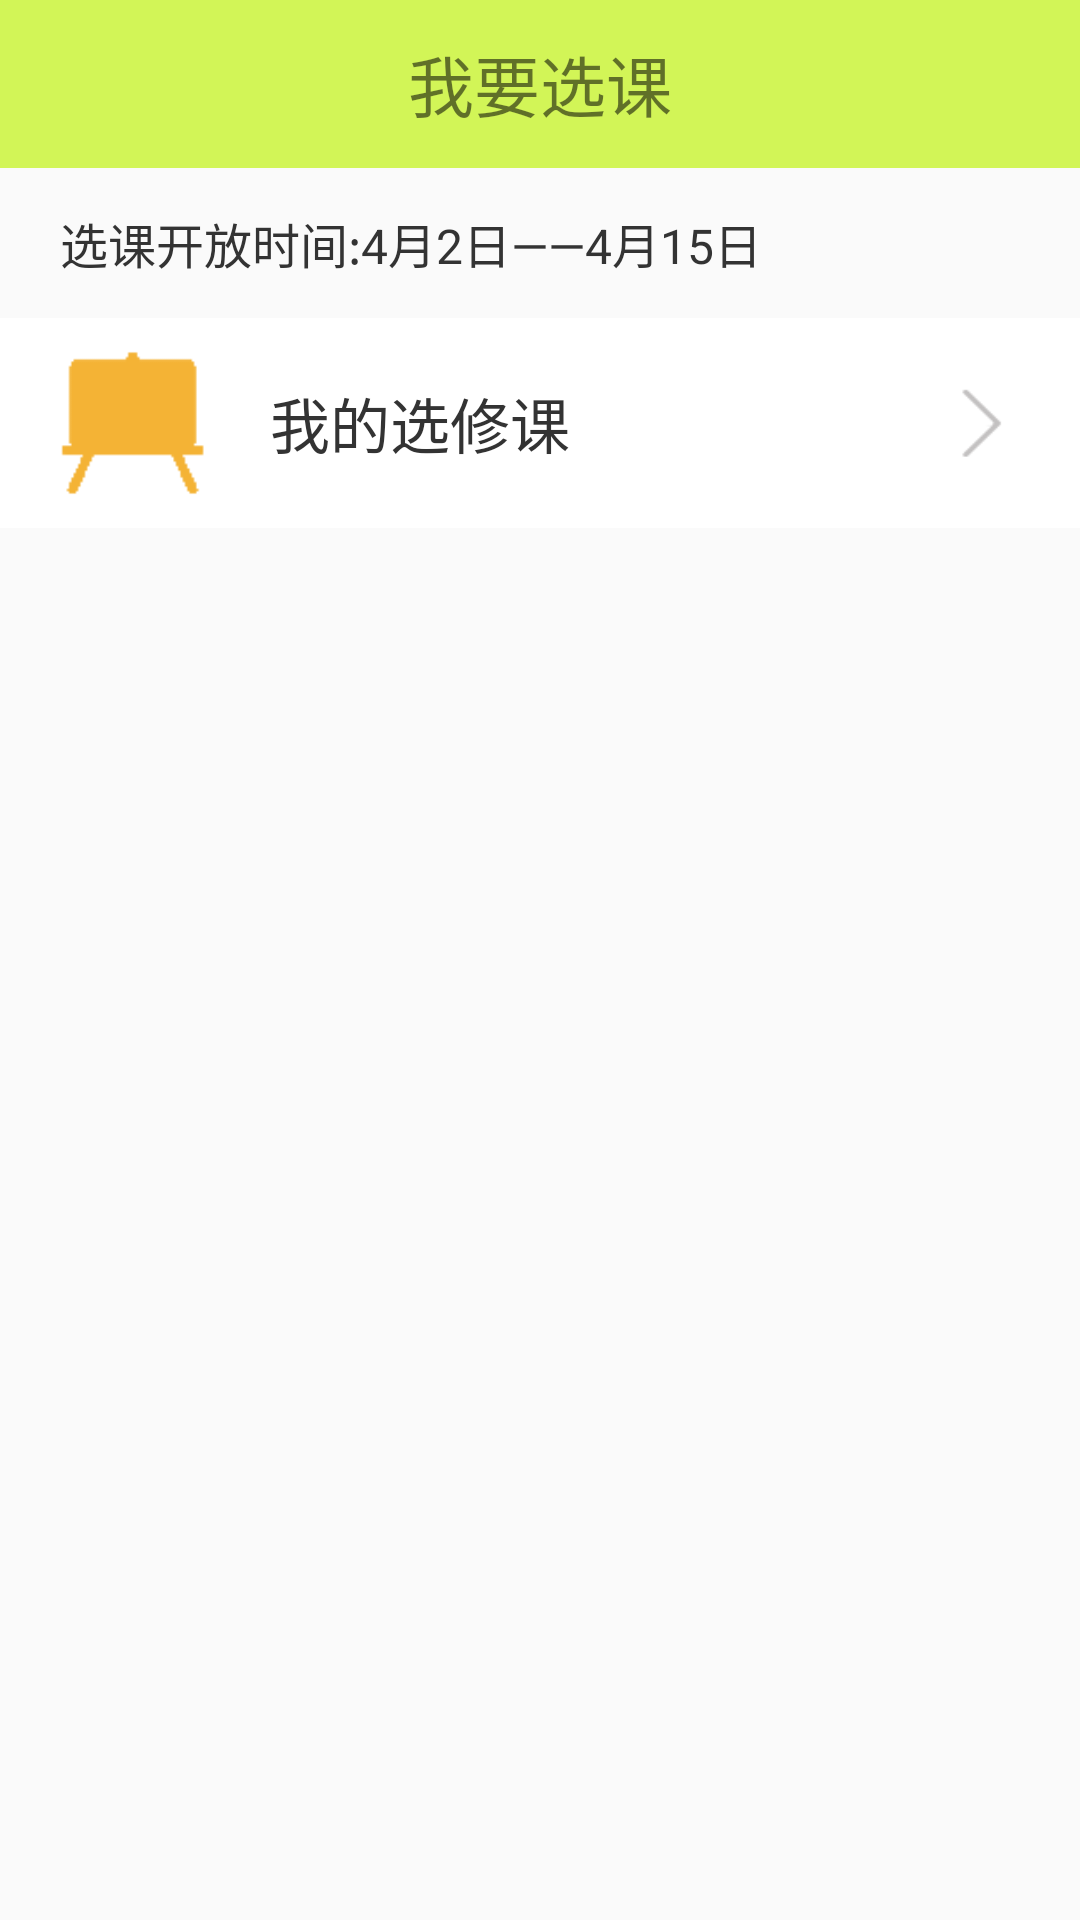

Screen size 1080w x 1920h. Icon name, then its center in pixels as (x,y):
elective: (132,423)
elective right icpn: (982,423)
